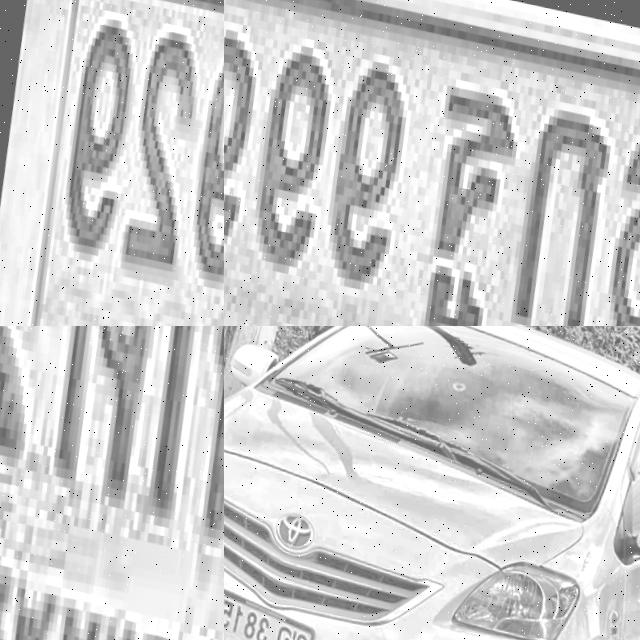license-plate: (224, 0, 640, 326), (0, 0, 224, 326), (0, 326, 224, 640), (224, 580, 317, 640)
